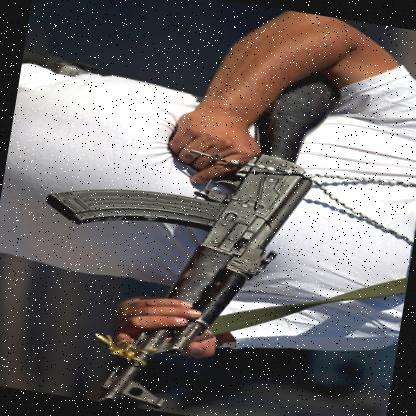rifle: (14, 32, 353, 416)
